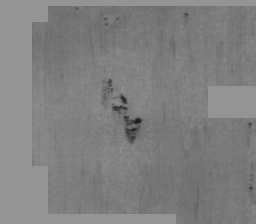oxl: (35, 10, 221, 214)
